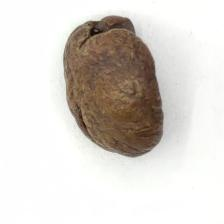NG: (75, 14, 141, 50)
